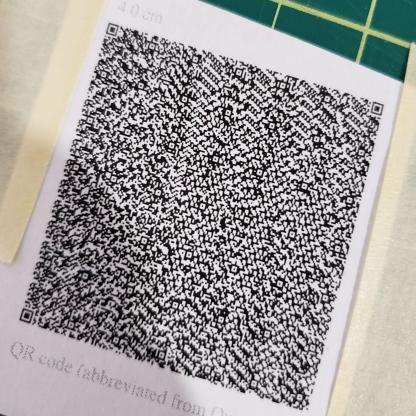qr: (15, 16, 391, 416)
